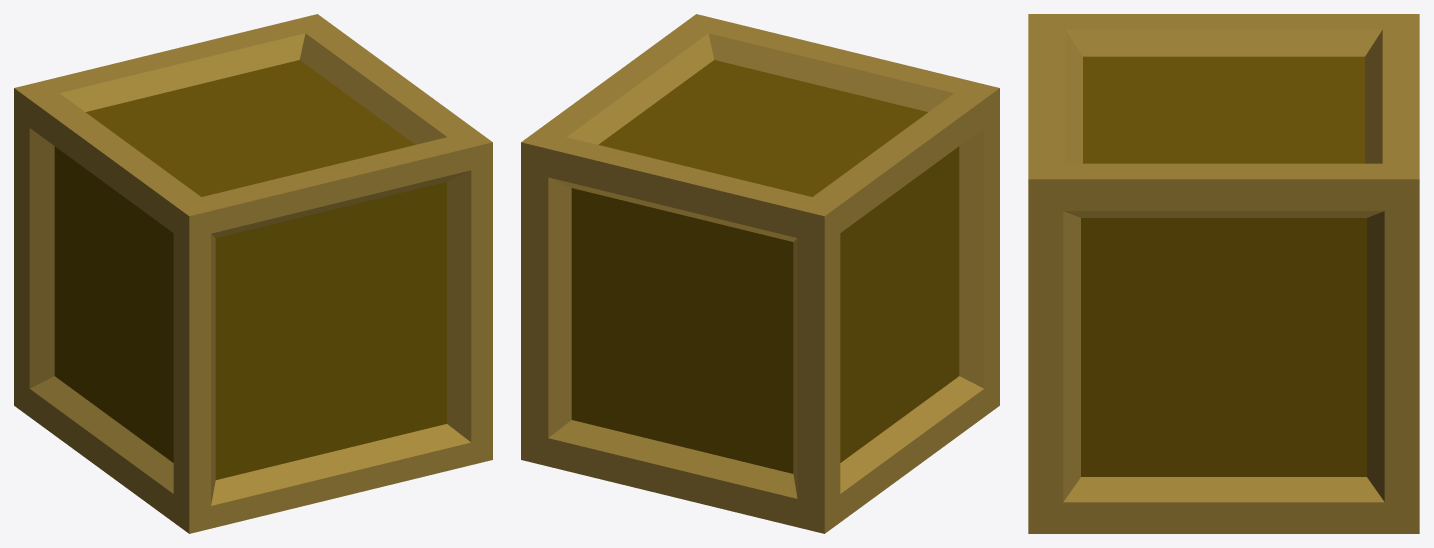
File: MS_Crate.fbx
The picture shows the model from 3 angles, left to right: view 1: azimuth 30°, elevation 25°; view 2: azimuth 150°, elevation 25°; view 3: azimuth 270°, elevation 25°; orthographic projection. The views are drawn at different scales.
Visible parts, largest first — view 1: pCube1; view 2: pCube1; view 3: pCube1.
Part boxes in pixels (box(x1,y1,x2,y2)): pCube1: box(14, 14, 492, 533); pCube1: box(521, 14, 999, 533); pCube1: box(1028, 14, 1419, 533).
Size of the model in its own units: 6.77 by 6.77 by 6.77.
